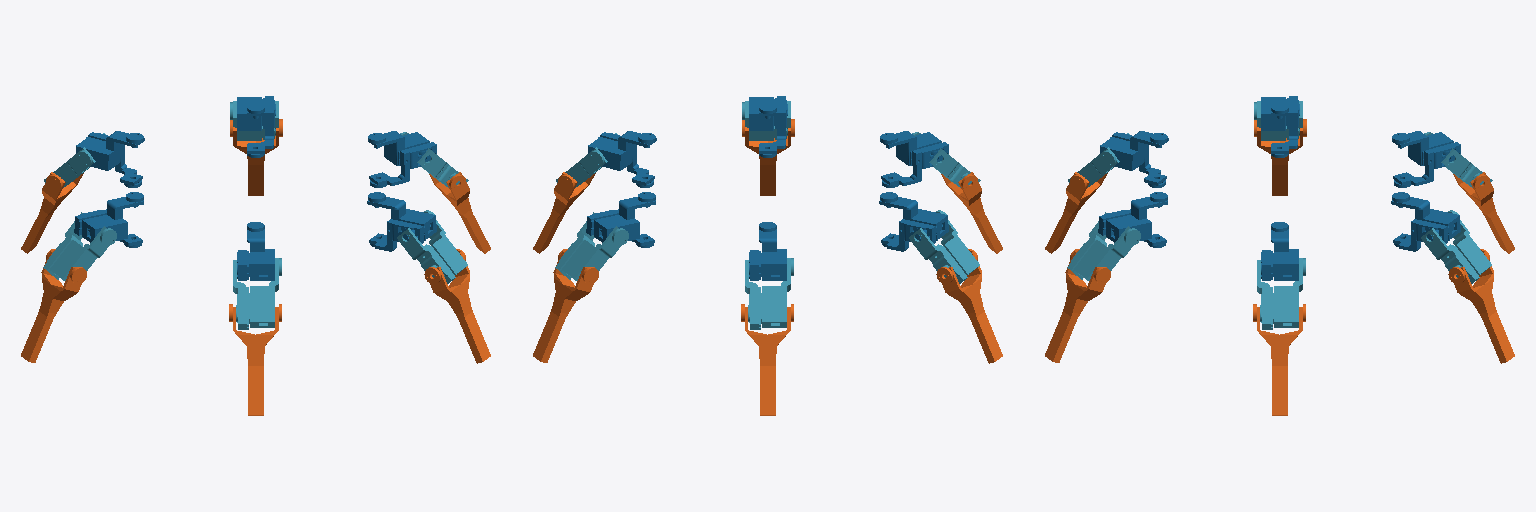
robot.urdf — dksh_spiderbot_6leg_cad:
<?xml version='1.0' encoding='utf-8'?>
<robot name="dksh_spiderbot_6leg_cad">
  <link name="base">
    <inertial>
      <origin xyz="0.000000000 0.000000000 0.000324922" rpy="0 0 0" />
      <mass value="0.5" />
      <inertia ixx="0.002372023602868209" iyy="0.0029870802451547884" izz="0.005207855534088765" ixy="0" ixz="0" iyz="0" />
    </inertial>
    <visual>
      <geometry>
        <mesh filename="meshes/base.obj" />
      </geometry>
      <material name="base">
        <color rgba="0.110000000 0.150000000 0.190000000 1.000000000" />
      </material>
    </visual>
    <collision>
      <origin xyz="0.000000000 0.000000000 0.000000000" rpy="0.000000000 0.000000000 0.000000000" />
      <geometry>
        <box size="0.150000000 0.150000000 0.022000000" />
      </geometry>
    </collision>
    <collision>
      <origin xyz="0.095421148 0.005144166 0.000324922" rpy="0.000000000 0.000000000 0.000000000" />
      <geometry>
        <box size="0.073496399 0.101663288 0.042602579" />
      </geometry>
    </collision>
    <collision>
      <origin xyz="0.043255595 0.085209222 0.000324922" rpy="0.000000000 0.000000000 1.047197551" />
      <geometry>
        <box size="0.073496399 0.101663288 0.042602579" />
      </geometry>
    </collision>
    <collision>
      <origin xyz="-0.052165553 0.080065055 0.000324922" rpy="0.000000000 0.000000000 2.094395102" />
      <geometry>
        <box size="0.073496399 0.101663288 0.042602579" />
      </geometry>
    </collision>
    <collision>
      <origin xyz="-0.095421148 -0.005144166 0.000324922" rpy="0.000000000 0.000000000 3.141592654" />
      <geometry>
        <box size="0.073496399 0.101663288 0.042602579" />
      </geometry>
    </collision>
    <collision>
      <origin xyz="-0.043255595 -0.085209222 0.000324922" rpy="0.000000000 0.000000000 4.188790205" />
      <geometry>
        <box size="0.073496399 0.101663288 0.042602579" />
      </geometry>
    </collision>
    <collision>
      <origin xyz="0.052165553 -0.080065055 0.000324922" rpy="0.000000000 0.000000000 5.235987756" />
      <geometry>
        <box size="0.073496399 0.101663288 0.042602579" />
      </geometry>
    </collision>
  </link>
  <link name="leg_0_hip">
    <inertial>
      <origin xyz="0.020932082 -0.001750000 0.000497309" rpy="0 0 0" />
      <mass value="0.1" />
      <inertia ixx="2.8352668118290987e-05" iyy="4.63277654963587e-05" izz="4.0057764739009287e-05" ixy="0" ixz="0" iyz="0" />
    </inertial>
    <visual>
      <geometry>
        <mesh filename="meshes/hip.obj" />
      </geometry>
      <material name="hip">
        <color rgba="0.160000000 0.470000000 0.650000000 1.000000000" />
      </material>
    </visual>
    <collision>
      <origin xyz="0.020932082 -0.001750000 0.000497309" rpy="0.000000000 0.000000000 0.000000000" />
      <geometry>
        <box size="0.059008234 0.036400001 0.045578066" />
      </geometry>
    </collision>
  </link>
  <joint name="leg_0_hip_joint" type="revolute">
    <parent link="base" />
    <child link="leg_0_hip" />
    <origin xyz="0.120000000 0.000000000 0.000000000" rpy="0.000000000 0.000000000 0.000000000" />
    <axis xyz="0 0 1" />
    <limit lower="-1.5707963267948966" upper="1.5707963267948966" effort="0.980665" velocity="6.981317007977318" />
    <dynamics damping="0.05" friction="0.01" />
  </joint>
  <link name="leg_0_femur">
    <inertial>
      <origin xyz="0.017335109 0.001250000 -0.017335109" rpy="0 0 0" />
      <mass value="0.1" />
      <inertia ixx="3.8126683006580906e-05" iyy="4.629069859330931e-05" izz="3.8126683062110895e-05" ixy="0" ixz="0" iyz="0" />
    </inertial>
    <visual>
      <geometry>
        <mesh filename="meshes/femur.obj" />
      </geometry>
      <material name="femur">
        <color rgba="0.310000000 0.640000000 0.730000000 1.000000000" />
      </material>
    </visual>
    <collision>
      <origin xyz="0.017335109 0.001250000 -0.017335109" rpy="0.000000000 0.000000000 0.000000000" />
      <geometry>
        <box size="0.052701441 0.042400001 0.052701441" />
      </geometry>
    </collision>
  </link>
  <joint name="leg_0_femur_joint" type="revolute">
    <parent link="leg_0_hip" />
    <child link="leg_0_femur" />
    <origin xyz="0.036987004 0.000000000 0.001525013" rpy="0.000000000 0.000000000 0.000000000" />
    <axis xyz="0 1 0" />
    <limit lower="-1.5707963267948966" upper="1.5707963267948966" effort="0.980665" velocity="6.981317007977318" />
    <dynamics damping="0.05" friction="0.01" />
  </joint>
  <link name="leg_0_tibia">
    <inertial>
      <origin xyz="0.016120809 -0.000150000 -0.036284219" rpy="0 0 0" />
      <mass value="0.10227" />
      <inertia ixx="8.354875232560094e-05" iyy="8.752562848118777e-05" izz="3.880049413117583e-05" ixy="0" ixz="0" iyz="0" />
    </inertial>
    <visual>
      <geometry>
        <mesh filename="meshes/tibia.obj" />
      </geometry>
      <material name="tibia">
        <color rgba="0.920000000 0.470000000 0.180000000 1.000000000" />
      </material>
    </visual>
    <collision>
      <origin xyz="0.016120809 -0.000150000 -0.036284219" rpy="0.000000000 0.000000000 0.000000000" />
      <geometry>
        <box size="0.050096633 0.045200001 0.088092423" />
      </geometry>
    </collision>
  </link>
  <joint name="leg_0_tibia_joint" type="revolute">
    <parent link="leg_0_femur" />
    <child link="leg_0_tibia" />
    <origin xyz="0.029238866 0.000000000 -0.029238866" rpy="0.000000000 0.000000000 0.000000000" />
    <axis xyz="0 1 0" />
    <limit lower="-1.5707963267948966" upper="1.5707963267948966" effort="0.980665" velocity="6.981317007977318" />
    <dynamics damping="0.05" friction="0.01" />
  </joint>
  <link name="leg_1_hip">
    <inertial>
      <origin xyz="0.020932082 -0.001750000 0.000497309" rpy="0 0 0" />
      <mass value="0.1" />
      <inertia ixx="2.8352668118290987e-05" iyy="4.63277654963587e-05" izz="4.0057764739009287e-05" ixy="0" ixz="0" iyz="0" />
    </inertial>
    <visual>
      <geometry>
        <mesh filename="meshes/hip.obj" />
      </geometry>
      <material name="hip">
        <color rgba="0.160000000 0.470000000 0.650000000 1.000000000" />
      </material>
    </visual>
    <collision>
      <origin xyz="0.020932082 -0.001750000 0.000497309" rpy="0.000000000 0.000000000 0.000000000" />
      <geometry>
        <box size="0.059008234 0.036400001 0.045578066" />
      </geometry>
    </collision>
  </link>
  <joint name="leg_1_hip_joint" type="revolute">
    <parent link="base" />
    <child link="leg_1_hip" />
    <origin xyz="0.060000000 0.103923048 0.000000000" rpy="0.000000000 0.000000000 1.047197551" />
    <axis xyz="0 0 1" />
    <limit lower="-1.5707963267948966" upper="1.5707963267948966" effort="0.980665" velocity="6.981317007977318" />
    <dynamics damping="0.05" friction="0.01" />
  </joint>
  <link name="leg_1_femur">
    <inertial>
      <origin xyz="0.017335109 0.001250000 -0.017335109" rpy="0 0 0" />
      <mass value="0.1" />
      <inertia ixx="3.8126683006580906e-05" iyy="4.629069859330931e-05" izz="3.8126683062110895e-05" ixy="0" ixz="0" iyz="0" />
    </inertial>
    <visual>
      <geometry>
        <mesh filename="meshes/femur.obj" />
      </geometry>
      <material name="femur">
        <color rgba="0.310000000 0.640000000 0.730000000 1.000000000" />
      </material>
    </visual>
    <collision>
      <origin xyz="0.017335109 0.001250000 -0.017335109" rpy="0.000000000 0.000000000 0.000000000" />
      <geometry>
        <box size="0.052701441 0.042400001 0.052701441" />
      </geometry>
    </collision>
  </link>
  <joint name="leg_1_femur_joint" type="revolute">
    <parent link="leg_1_hip" />
    <child link="leg_1_femur" />
    <origin xyz="0.036987004 0.000000000 0.001525013" rpy="0.000000000 0.000000000 0.000000000" />
    <axis xyz="0 1 0" />
    <limit lower="-1.5707963267948966" upper="1.5707963267948966" effort="0.980665" velocity="6.981317007977318" />
    <dynamics damping="0.05" friction="0.01" />
  </joint>
  <link name="leg_1_tibia">
    <inertial>
      <origin xyz="0.016120809 -0.000150000 -0.036284219" rpy="0 0 0" />
      <mass value="0.10227" />
      <inertia ixx="8.354875232560094e-05" iyy="8.752562848118777e-05" izz="3.880049413117583e-05" ixy="0" ixz="0" iyz="0" />
    </inertial>
    <visual>
      <geometry>
        <mesh filename="meshes/tibia.obj" />
      </geometry>
      <material name="tibia">
        <color rgba="0.920000000 0.470000000 0.180000000 1.000000000" />
      </material>
    </visual>
    <collision>
      <origin xyz="0.016120809 -0.000150000 -0.036284219" rpy="0.000000000 0.000000000 0.000000000" />
      <geometry>
        <box size="0.050096633 0.045200001 0.088092423" />
      </geometry>
    </collision>
  </link>
  <joint name="leg_1_tibia_joint" type="revolute">
    <parent link="leg_1_femur" />
    <child link="leg_1_tibia" />
    <origin xyz="0.029238866 0.000000000 -0.029238866" rpy="0.000000000 0.000000000 0.000000000" />
    <axis xyz="0 1 0" />
    <limit lower="-1.5707963267948966" upper="1.5707963267948966" effort="0.980665" velocity="6.981317007977318" />
    <dynamics damping="0.05" friction="0.01" />
  </joint>
  <link name="leg_2_hip">
    <inertial>
      <origin xyz="0.020932082 -0.001750000 0.000497309" rpy="0 0 0" />
      <mass value="0.1" />
      <inertia ixx="2.8352668118290987e-05" iyy="4.63277654963587e-05" izz="4.0057764739009287e-05" ixy="0" ixz="0" iyz="0" />
    </inertial>
    <visual>
      <geometry>
        <mesh filename="meshes/hip.obj" />
      </geometry>
      <material name="hip">
        <color rgba="0.160000000 0.470000000 0.650000000 1.000000000" />
      </material>
    </visual>
    <collision>
      <origin xyz="0.020932082 -0.001750000 0.000497309" rpy="0.000000000 0.000000000 0.000000000" />
      <geometry>
        <box size="0.059008234 0.036400001 0.045578066" />
      </geometry>
    </collision>
  </link>
  <joint name="leg_2_hip_joint" type="revolute">
    <parent link="base" />
    <child link="leg_2_hip" />
    <origin xyz="-0.060000000 0.103923048 0.000000000" rpy="0.000000000 0.000000000 2.094395102" />
    <axis xyz="0 0 1" />
    <limit lower="-1.5707963267948966" upper="1.5707963267948966" effort="0.980665" velocity="6.981317007977318" />
    <dynamics damping="0.05" friction="0.01" />
  </joint>
  <link name="leg_2_femur">
    <inertial>
      <origin xyz="0.017335109 0.001250000 -0.017335109" rpy="0 0 0" />
      <mass value="0.1" />
      <inertia ixx="3.8126683006580906e-05" iyy="4.629069859330931e-05" izz="3.8126683062110895e-05" ixy="0" ixz="0" iyz="0" />
    </inertial>
    <visual>
      <geometry>
        <mesh filename="meshes/femur.obj" />
      </geometry>
      <material name="femur">
        <color rgba="0.310000000 0.640000000 0.730000000 1.000000000" />
      </material>
    </visual>
    <collision>
      <origin xyz="0.017335109 0.001250000 -0.017335109" rpy="0.000000000 0.000000000 0.000000000" />
      <geometry>
        <box size="0.052701441 0.042400001 0.052701441" />
      </geometry>
    </collision>
  </link>
  <joint name="leg_2_femur_joint" type="revolute">
    <parent link="leg_2_hip" />
    <child link="leg_2_femur" />
    <origin xyz="0.036987004 0.000000000 0.001525013" rpy="0.000000000 0.000000000 0.000000000" />
    <axis xyz="0 1 0" />
    <limit lower="-1.5707963267948966" upper="1.5707963267948966" effort="0.980665" velocity="6.981317007977318" />
    <dynamics damping="0.05" friction="0.01" />
  </joint>
  <link name="leg_2_tibia">
    <inertial>
      <origin xyz="0.016120809 -0.000150000 -0.036284219" rpy="0 0 0" />
      <mass value="0.10227" />
      <inertia ixx="8.354875232560094e-05" iyy="8.752562848118777e-05" izz="3.880049413117583e-05" ixy="0" ixz="0" iyz="0" />
    </inertial>
    <visual>
      <geometry>
        <mesh filename="meshes/tibia.obj" />
      </geometry>
      <material name="tibia">
        <color rgba="0.920000000 0.470000000 0.180000000 1.000000000" />
      </material>
    </visual>
    <collision>
      <origin xyz="0.016120809 -0.000150000 -0.036284219" rpy="0.000000000 0.000000000 0.000000000" />
      <geometry>
        <box size="0.050096633 0.045200001 0.088092423" />
      </geometry>
    </collision>
  </link>
  <joint name="leg_2_tibia_joint" type="revolute">
    <parent link="leg_2_femur" />
    <child link="leg_2_tibia" />
    <origin xyz="0.029238866 0.000000000 -0.029238866" rpy="0.000000000 0.000000000 0.000000000" />
    <axis xyz="0 1 0" />
    <limit lower="-1.5707963267948966" upper="1.5707963267948966" effort="0.980665" velocity="6.981317007977318" />
    <dynamics damping="0.05" friction="0.01" />
  </joint>
  <link name="leg_3_hip">
    <inertial>
      <origin xyz="0.020932082 -0.001750000 0.000497309" rpy="0 0 0" />
      <mass value="0.1" />
      <inertia ixx="2.8352668118290987e-05" iyy="4.63277654963587e-05" izz="4.0057764739009287e-05" ixy="0" ixz="0" iyz="0" />
    </inertial>
    <visual>
      <geometry>
        <mesh filename="meshes/hip.obj" />
      </geometry>
      <material name="hip">
        <color rgba="0.160000000 0.470000000 0.650000000 1.000000000" />
      </material>
    </visual>
    <collision>
      <origin xyz="0.020932082 -0.001750000 0.000497309" rpy="0.000000000 0.000000000 0.000000000" />
      <geometry>
        <box size="0.059008234 0.036400001 0.045578066" />
      </geometry>
    </collision>
  </link>
  <joint name="leg_3_hip_joint" type="revolute">
    <parent link="base" />
    <child link="leg_3_hip" />
    <origin xyz="-0.120000000 0.000000000 0.000000000" rpy="0.000000000 0.000000000 3.141592654" />
    <axis xyz="0 0 1" />
    <limit lower="-1.5707963267948966" upper="1.5707963267948966" effort="0.980665" velocity="6.981317007977318" />
    <dynamics damping="0.05" friction="0.01" />
  </joint>
  <link name="leg_3_femur">
    <inertial>
      <origin xyz="0.017335109 0.001250000 -0.017335109" rpy="0 0 0" />
      <mass value="0.1" />
      <inertia ixx="3.8126683006580906e-05" iyy="4.629069859330931e-05" izz="3.8126683062110895e-05" ixy="0" ixz="0" iyz="0" />
    </inertial>
    <visual>
      <geometry>
        <mesh filename="meshes/femur.obj" />
      </geometry>
      <material name="femur">
        <color rgba="0.310000000 0.640000000 0.730000000 1.000000000" />
      </material>
    </visual>
    <collision>
      <origin xyz="0.017335109 0.001250000 -0.017335109" rpy="0.000000000 0.000000000 0.000000000" />
      <geometry>
        <box size="0.052701441 0.042400001 0.052701441" />
      </geometry>
    </collision>
  </link>
  <joint name="leg_3_femur_joint" type="revolute">
    <parent link="leg_3_hip" />
    <child link="leg_3_femur" />
    <origin xyz="0.036987004 0.000000000 0.001525013" rpy="0.000000000 0.000000000 0.000000000" />
    <axis xyz="0 1 0" />
    <limit lower="-1.5707963267948966" upper="1.5707963267948966" effort="0.980665" velocity="6.981317007977318" />
    <dynamics damping="0.05" friction="0.01" />
  </joint>
  <link name="leg_3_tibia">
    <inertial>
      <origin xyz="0.016120809 -0.000150000 -0.036284219" rpy="0 0 0" />
      <mass value="0.10227" />
      <inertia ixx="8.354875232560094e-05" iyy="8.752562848118777e-05" izz="3.880049413117583e-05" ixy="0" ixz="0" iyz="0" />
    </inertial>
    <visual>
      <geometry>
        <mesh filename="meshes/tibia.obj" />
      </geometry>
      <material name="tibia">
        <color rgba="0.920000000 0.470000000 0.180000000 1.000000000" />
      </material>
    </visual>
    <collision>
      <origin xyz="0.016120809 -0.000150000 -0.036284219" rpy="0.000000000 0.000000000 0.000000000" />
      <geometry>
        <box size="0.050096633 0.045200001 0.088092423" />
      </geometry>
    </collision>
  </link>
  <joint name="leg_3_tibia_joint" type="revolute">
    <parent link="leg_3_femur" />
    <child link="leg_3_tibia" />
    <origin xyz="0.029238866 0.000000000 -0.029238866" rpy="0.000000000 0.000000000 0.000000000" />
    <axis xyz="0 1 0" />
    <limit lower="-1.5707963267948966" upper="1.5707963267948966" effort="0.980665" velocity="6.981317007977318" />
    <dynamics damping="0.05" friction="0.01" />
  </joint>
  <link name="leg_4_hip">
    <inertial>
      <origin xyz="0.020932082 -0.001750000 0.000497309" rpy="0 0 0" />
      <mass value="0.1" />
      <inertia ixx="2.8352668118290987e-05" iyy="4.63277654963587e-05" izz="4.0057764739009287e-05" ixy="0" ixz="0" iyz="0" />
    </inertial>
    <visual>
      <geometry>
        <mesh filename="meshes/hip.obj" />
      </geometry>
      <material name="hip">
        <color rgba="0.160000000 0.470000000 0.650000000 1.000000000" />
      </material>
    </visual>
    <collision>
      <origin xyz="0.020932082 -0.001750000 0.000497309" rpy="0.000000000 0.000000000 0.000000000" />
      <geometry>
        <box size="0.059008234 0.036400001 0.045578066" />
      </geometry>
    </collision>
  </link>
  <joint name="leg_4_hip_joint" type="revolute">
    <parent link="base" />
    <child link="leg_4_hip" />
    <origin xyz="-0.060000000 -0.103923048 0.000000000" rpy="0.000000000 0.000000000 4.188790205" />
    <axis xyz="0 0 1" />
    <limit lower="-1.5707963267948966" upper="1.5707963267948966" effort="0.980665" velocity="6.981317007977318" />
    <dynamics damping="0.05" friction="0.01" />
  </joint>
  <link name="leg_4_femur">
    <inertial>
      <origin xyz="0.017335109 0.001250000 -0.017335109" rpy="0 0 0" />
      <mass value="0.1" />
      <inertia ixx="3.8126683006580906e-05" iyy="4.629069859330931e-05" izz="3.8126683062110895e-05" ixy="0" ixz="0" iyz="0" />
    </inertial>
    <visual>
      <geometry>
        <mesh filename="meshes/femur.obj" />
      </geometry>
      <material name="femur">
        <color rgba="0.310000000 0.640000000 0.730000000 1.000000000" />
      </material>
    </visual>
    <collision>
      <origin xyz="0.017335109 0.001250000 -0.017335109" rpy="0.000000000 0.000000000 0.000000000" />
      <geometry>
        <box size="0.052701441 0.042400001 0.052701441" />
      </geometry>
    </collision>
  </link>
  <joint name="leg_4_femur_joint" type="revolute">
    <parent link="leg_4_hip" />
    <child link="leg_4_femur" />
    <origin xyz="0.036987004 0.000000000 0.001525013" rpy="0.000000000 0.000000000 0.000000000" />
    <axis xyz="0 1 0" />
    <limit lower="-1.5707963267948966" upper="1.5707963267948966" effort="0.980665" velocity="6.981317007977318" />
    <dynamics damping="0.05" friction="0.01" />
  </joint>
  <link name="leg_4_tibia">
    <inertial>
      <origin xyz="0.016120809 -0.000150000 -0.036284219" rpy="0 0 0" />
      <mass value="0.10227" />
      <inertia ixx="8.354875232560094e-05" iyy="8.752562848118777e-05" izz="3.880049413117583e-05" ixy="0" ixz="0" iyz="0" />
    </inertial>
    <visual>
      <geometry>
        <mesh filename="meshes/tibia.obj" />
      </geometry>
      <material name="tibia">
        <color rgba="0.920000000 0.470000000 0.180000000 1.000000000" />
      </material>
    </visual>
    <collision>
      <origin xyz="0.016120809 -0.000150000 -0.036284219" rpy="0.000000000 0.000000000 0.000000000" />
      <geometry>
        <box size="0.050096633 0.045200001 0.088092423" />
      </geometry>
    </collision>
  </link>
  <joint name="leg_4_tibia_joint" type="revolute">
    <parent link="leg_4_femur" />
    <child link="leg_4_tibia" />
    <origin xyz="0.029238866 0.000000000 -0.029238866" rpy="0.000000000 0.000000000 0.000000000" />
    <axis xyz="0 1 0" />
    <limit lower="-1.5707963267948966" upper="1.5707963267948966" effort="0.980665" velocity="6.981317007977318" />
    <dynamics damping="0.05" friction="0.01" />
  </joint>
  <link name="leg_5_hip">
    <inertial>
      <origin xyz="0.020932082 -0.001750000 0.000497309" rpy="0 0 0" />
      <mass value="0.1" />
      <inertia ixx="2.8352668118290987e-05" iyy="4.63277654963587e-05" izz="4.0057764739009287e-05" ixy="0" ixz="0" iyz="0" />
    </inertial>
    <visual>
      <geometry>
        <mesh filename="meshes/hip.obj" />
      </geometry>
      <material name="hip">
        <color rgba="0.160000000 0.470000000 0.650000000 1.000000000" />
      </material>
    </visual>
    <collision>
      <origin xyz="0.020932082 -0.001750000 0.000497309" rpy="0.000000000 0.000000000 0.000000000" />
      <geometry>
        <box size="0.059008234 0.036400001 0.045578066" />
      </geometry>
    </collision>
  </link>
  <joint name="leg_5_hip_joint" type="revolute">
    <parent link="base" />
    <child link="leg_5_hip" />
    <origin xyz="0.060000000 -0.103923048 0.000000000" rpy="0.000000000 0.000000000 5.235987756" />
    <axis xyz="0 0 1" />
    <limit lower="-1.5707963267948966" upper="1.5707963267948966" effort="0.980665" velocity="6.981317007977318" />
    <dynamics damping="0.05" friction="0.01" />
  </joint>
  <link name="leg_5_femur">
    <inertial>
      <origin xyz="0.017335109 0.001250000 -0.017335109" rpy="0 0 0" />
      <mass value="0.1" />
      <inertia ixx="3.8126683006580906e-05" iyy="4.629069859330931e-05" izz="3.8126683062110895e-05" ixy="0" ixz="0" iyz="0" />
    </inertial>
    <visual>
      <geometry>
        <mesh filename="meshes/femur.obj" />
      </geometry>
      <material name="femur">
        <color rgba="0.310000000 0.640000000 0.730000000 1.000000000" />
      </material>
    </visual>
    <collision>
      <origin xyz="0.017335109 0.001250000 -0.017335109" rpy="0.000000000 0.000000000 0.000000000" />
      <geometry>
        <box size="0.052701441 0.042400001 0.052701441" />
      </geometry>
    </collision>
  </link>
  <joint name="leg_5_femur_joint" type="revolute">
    <parent link="leg_5_hip" />
    <child link="leg_5_femur" />
    <origin xyz="0.036987004 0.000000000 0.001525013" rpy="0.000000000 0.000000000 0.000000000" />
    <axis xyz="0 1 0" />
    <limit lower="-1.5707963267948966" upper="1.5707963267948966" effort="0.980665" velocity="6.981317007977318" />
    <dynamics damping="0.05" friction="0.01" />
  </joint>
  <link name="leg_5_tibia">
    <inertial>
      <origin xyz="0.016120809 -0.000150000 -0.036284219" rpy="0 0 0" />
      <mass value="0.10227" />
      <inertia ixx="8.354875232560094e-05" iyy="8.752562848118777e-05" izz="3.880049413117583e-05" ixy="0" ixz="0" iyz="0" />
    </inertial>
    <visual>
      <geometry>
        <mesh filename="meshes/tibia.obj" />
      </geometry>
      <material name="tibia">
        <color rgba="0.920000000 0.470000000 0.180000000 1.000000000" />
      </material>
    </visual>
    <collision>
      <origin xyz="0.016120809 -0.000150000 -0.036284219" rpy="0.000000000 0.000000000 0.000000000" />
      <geometry>
        <box size="0.050096633 0.045200001 0.088092423" />
      </geometry>
    </collision>
  </link>
  <joint name="leg_5_tibia_joint" type="revolute">
    <parent link="leg_5_femur" />
    <child link="leg_5_tibia" />
    <origin xyz="0.029238866 0.000000000 -0.029238866" rpy="0.000000000 0.000000000 0.000000000" />
    <axis xyz="0 1 0" />
    <limit lower="-1.5707963267948966" upper="1.5707963267948966" effort="0.980665" velocity="6.981317007977318" />
    <dynamics damping="0.05" friction="0.01" />
  </joint>
</robot>

--- What the picture shows (computed from the rendered views, not written in the file) ---
3 views of the same robot in one strip: view 1: azimuth 30°, elevation 25°; view 2: azimuth 150°, elevation 25°; view 3: azimuth 270°, elevation 25° (orthographic).
Robot: dksh_spiderbot_6leg_cad — 19 links, 18 joints (18 revolute); root link base; default pose: every joint at zero.
Visible links, largest first — view 1: leg_5_tibia, leg_3_tibia, leg_0_hip, leg_5_hip, leg_4_femur, leg_2_hip, leg_3_femur, leg_3_hip, leg_5_femur, leg_4_tibia, leg_1_hip, leg_4_hip (+6 smaller); view 2: leg_3_tibia, leg_1_tibia, leg_4_hip, leg_3_hip, leg_2_femur, leg_0_hip, leg_1_femur, leg_1_hip, leg_3_femur, leg_2_tibia, leg_5_hip, leg_2_hip (+6 smaller); view 3: leg_1_tibia, leg_5_tibia, leg_2_hip, leg_1_hip, leg_0_femur, leg_4_hip, leg_5_femur, leg_5_hip, leg_1_femur, leg_0_tibia, leg_3_hip, leg_0_hip (+6 smaller).
Link boxes in pixels (x1,y1,x2,y2): leg_5_tibia: (424,249,490,363); leg_3_tibia: (21,249,86,362); leg_0_hip: (368,131,436,187); leg_5_hip: (367,192,436,251); leg_4_femur: (233,258,281,329); leg_2_hip: (76,131,144,187); leg_3_femur: (43,212,116,280); leg_3_hip: (74,192,143,247); leg_5_femur: (397,210,467,283); leg_4_tibia: (229,304,281,415); leg_1_hip: (237,96,275,157); leg_4_hip: (237,222,274,280); leg_3_tibia: (936,249,1002,363); leg_1_tibia: (533,249,598,362); leg_4_hip: (880,131,948,187); leg_3_hip: (879,192,948,251); leg_2_femur: (745,258,793,329); leg_0_hip: (588,131,656,187); leg_1_femur: (555,212,628,280); leg_1_hip: (586,192,655,247); leg_3_femur: (909,210,979,283); leg_2_tibia: (741,304,793,415); leg_5_hip: (749,96,787,157); leg_2_hip: (749,222,786,280); leg_1_tibia: (1448,249,1514,363); leg_5_tibia: (1045,249,1110,362); leg_2_hip: (1392,131,1460,187); leg_1_hip: (1391,192,1460,251); leg_0_femur: (1257,258,1305,329); leg_4_hip: (1100,131,1168,187); leg_5_femur: (1067,212,1140,280); leg_5_hip: (1098,192,1167,247); leg_1_femur: (1421,210,1491,283); leg_0_tibia: (1253,304,1305,415); leg_3_hip: (1261,96,1299,157); leg_0_hip: (1261,222,1298,280).
Size in the robot's own frame: 0.4548 by 0.401 by 0.1313 metres.
18 mesh visuals loaded from 4 distinct referenced files (3 OBJ); not drawn: 1 (reference not matched to a file when rendering).
